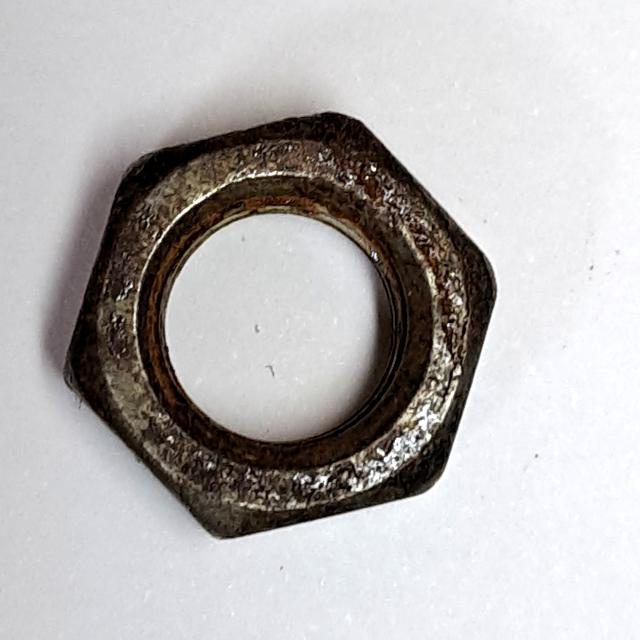Rust: (53, 104, 513, 553)
